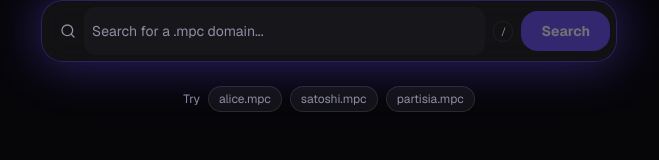
Test: DomainSearch › Recent searches › remembers nothing when the lookup fails
Type "alice" into the field with placeholder "Search for a .mpc domain..." at (285, 31), box 84,7 -> 486,55
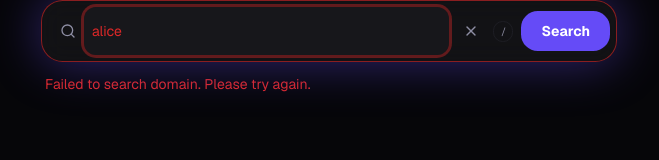
Result: the message "Failed to search domain. Please try again." is shown at 45,75 -> 310,93
